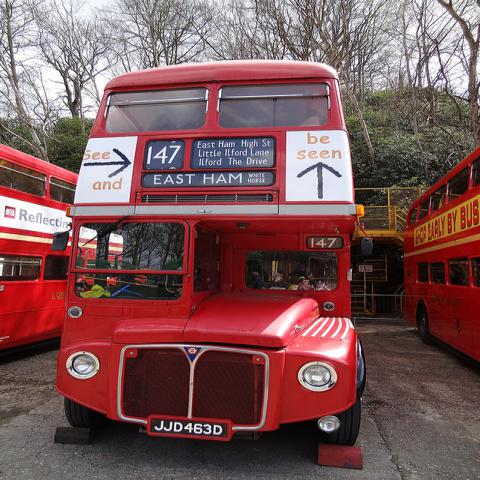bus: (55, 59, 366, 446), (0, 143, 78, 360), (405, 146, 479, 369)
